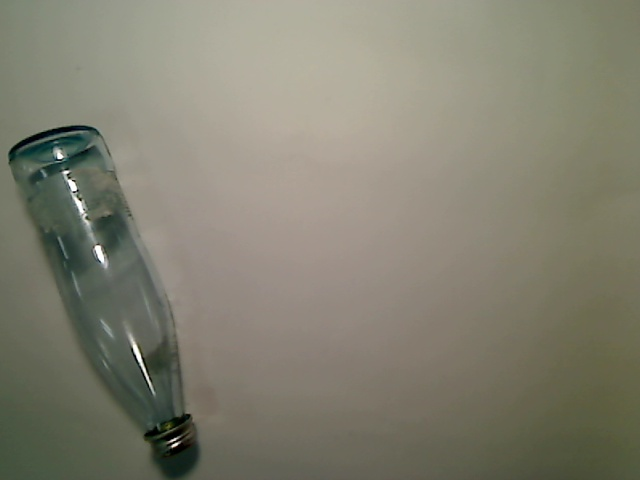bottle: (7, 125, 198, 457)
